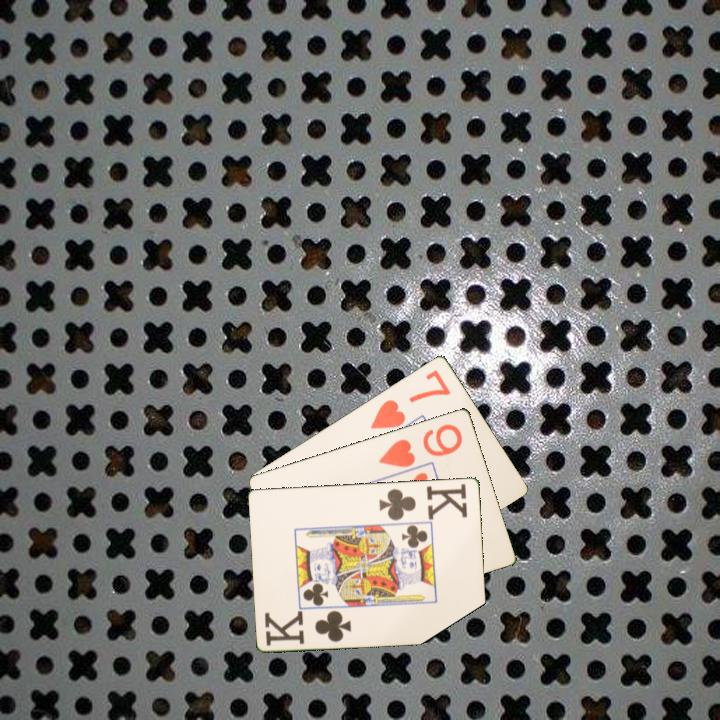7h: (367, 366, 454, 432)
9h: (375, 420, 465, 470)
Kc: (376, 480, 471, 523), (261, 607, 355, 648)
